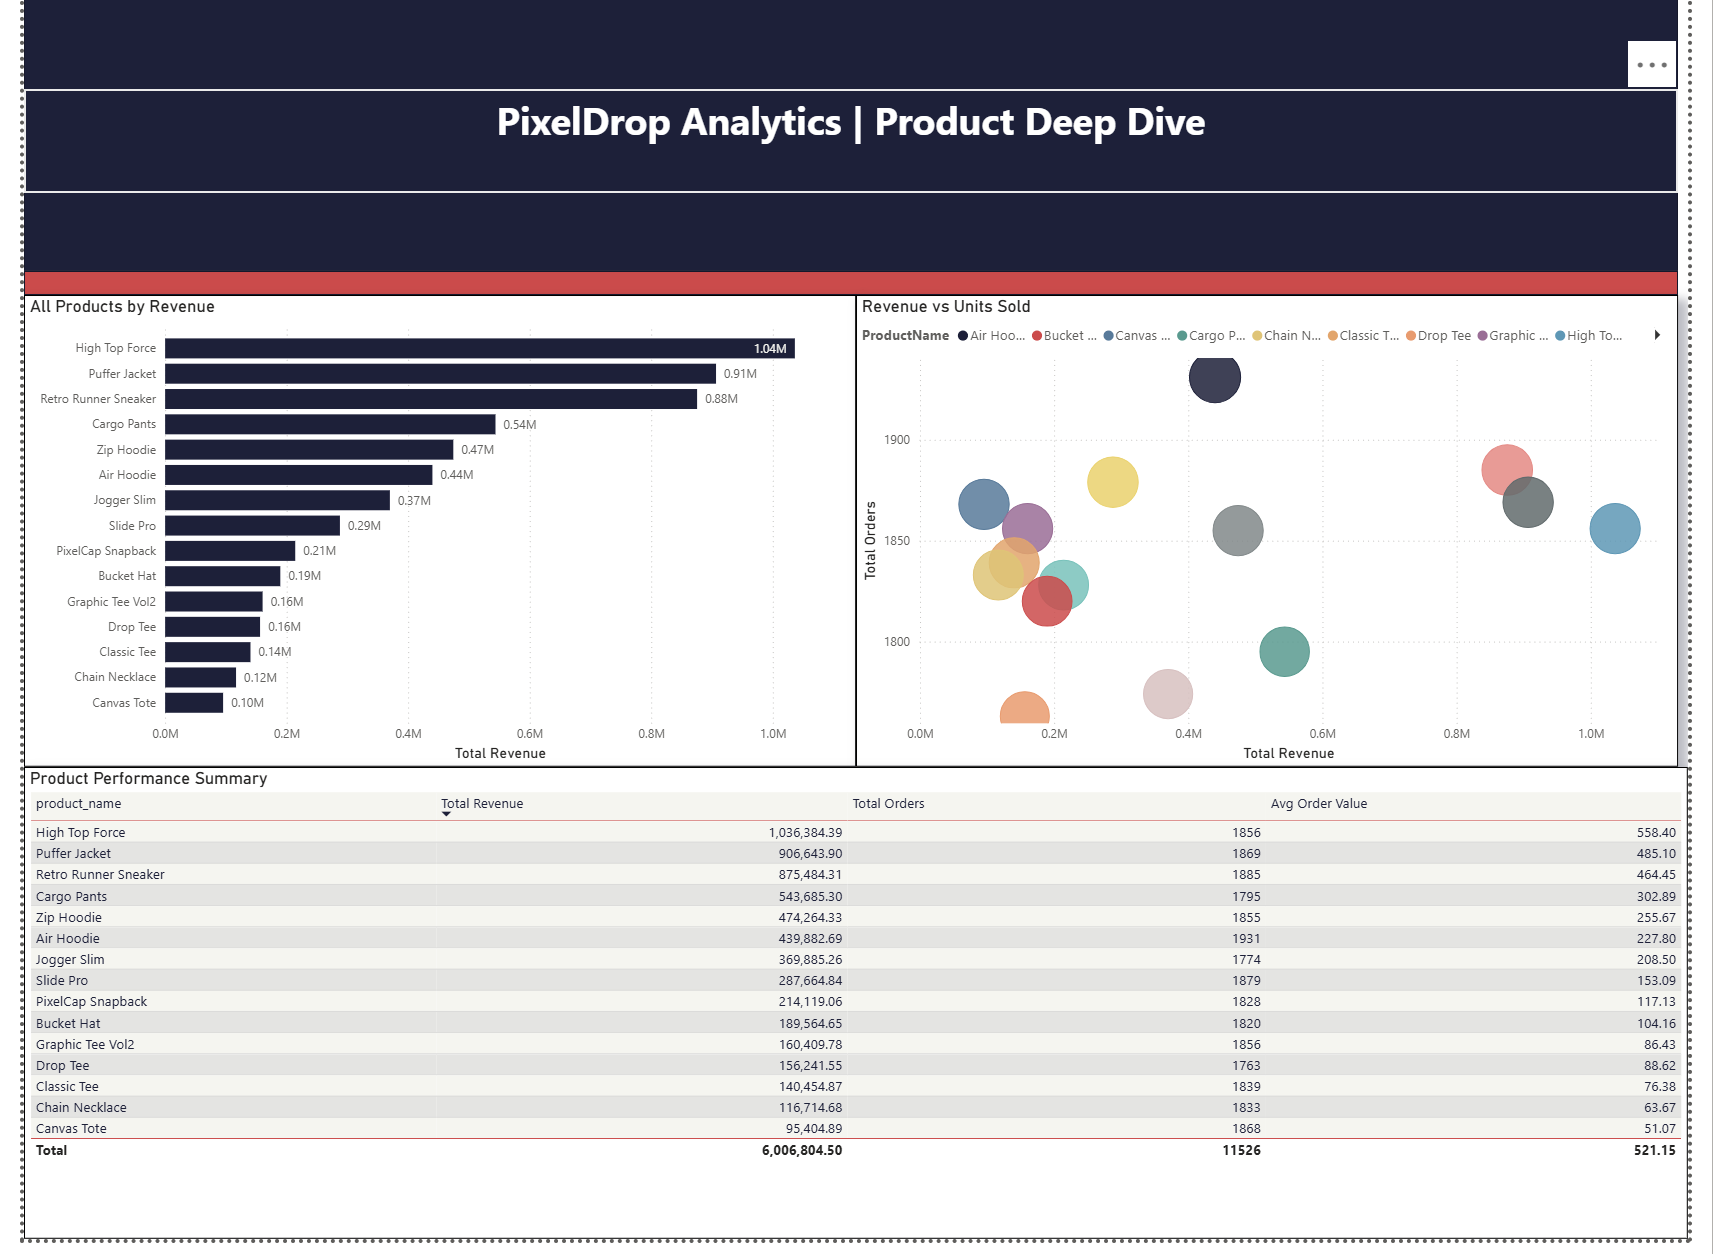

This screenshot's page, from the dashboard's own definition file:
{"tool":"powerbi","page":{"name":"Product Deep Dive","canvas":[1650,1240],"ordinal":2},"visuals":[{"type":"shape","box":[0,0,1640.8,279.7],"z":0},{"type":"textbox","box":[0,99.2,1640.8,103.2],"z":1000},{"type":"shape","box":[0,279.7,1640.8,23.8],"z":2000},{"type":"barChart","title":"All Products by Revenue","fields":{"Category":["vw_order_summary.product_name"],"Y":["Measures_.Total Revenue"]},"box":[0,303.6,825.3,468.2],"z":3000},{"type":"scatterChart","title":"Revenue vs Units Sold","fields":{"X":["Measures_.Total Revenue"],"Y":["Measures_.Total Orders"],"Series":["vw_order_summary.product_name"],"Size":["Measures_.Total Orders"]},"box":[825.3,303.6,815.4,468.2],"z":4000},{"type":"tableEx","title":"Product Performance Summary","fields":{"Values":["vw_order_summary.product_name","Measures_.Total Revenue","Measures_.Total Orders","Measures_.Avg Order Value"]},"box":[0,771.8,1650.7,468.2],"z":5000}]}

Visuals, with their boxes in screenshot pixels (x1, y1, x2, y2), scaled from the page's 1650x1240 canvas onto the 1713x1254 screenshot:
shape: <bbox>0, 0, 1703, 283</bbox>
textbox: <bbox>0, 100, 1703, 205</bbox>
shape: <bbox>0, 283, 1703, 307</bbox>
"All Products by Revenue" barChart: <bbox>0, 307, 857, 781</bbox>
"Revenue vs Units Sold" scatterChart: <bbox>857, 307, 1703, 781</bbox>
"Product Performance Summary" tableEx: <bbox>0, 781, 1712, 1253</bbox>
